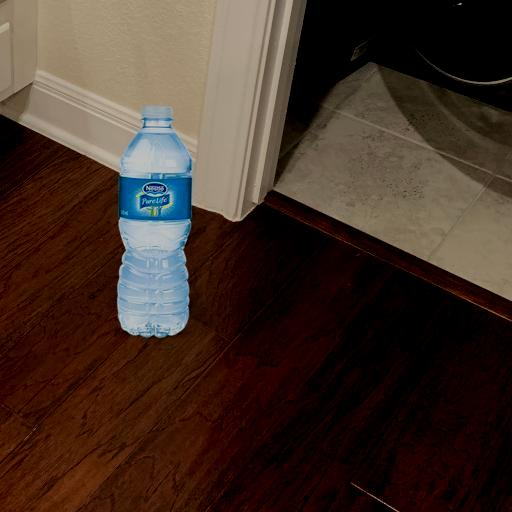bottle: (110, 102, 200, 350)
